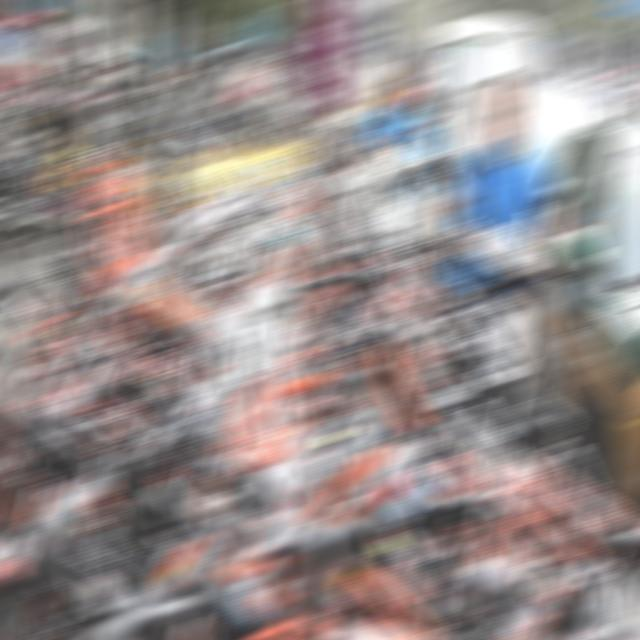Without Helmet: (480, 70, 532, 156), (380, 54, 418, 122)
